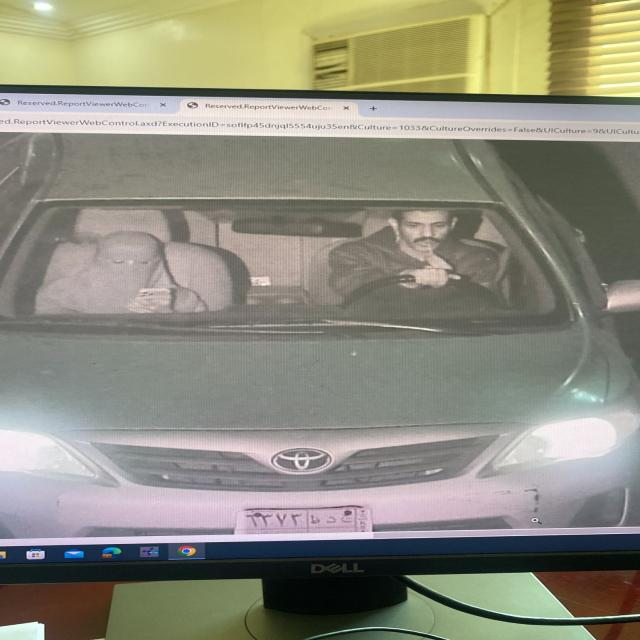person_without_seatbelt: (316, 213, 505, 327)
